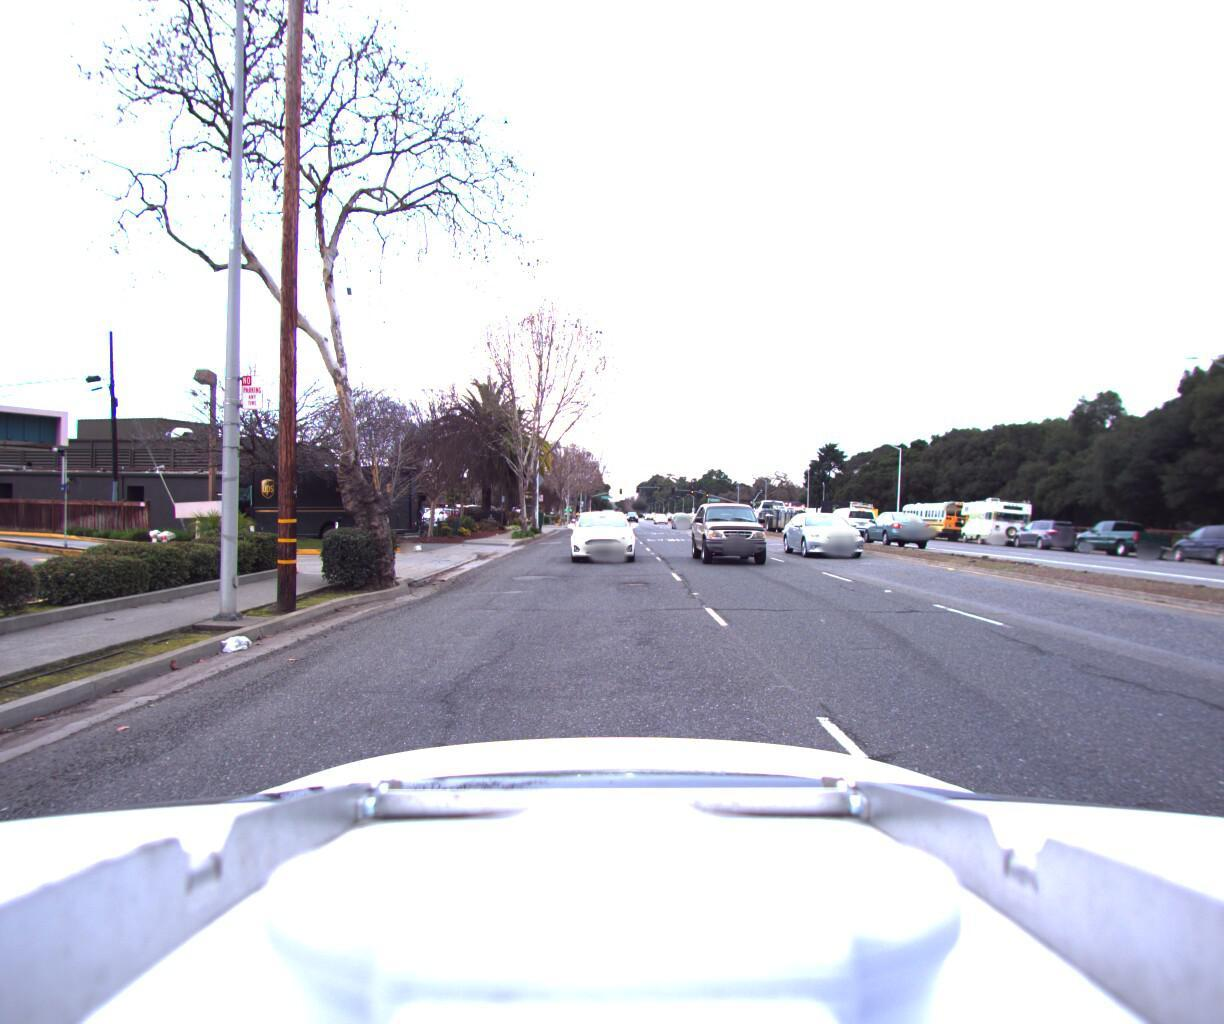bus: (890, 494, 983, 541)
car: (693, 496, 783, 568), (788, 508, 888, 559), (1065, 515, 1178, 556), (567, 502, 639, 561), (1155, 518, 1224, 567), (1004, 513, 1085, 549), (860, 509, 937, 546), (819, 500, 880, 536), (670, 509, 697, 526)
other_vehicle: (953, 492, 1036, 542)
truck: (203, 461, 423, 544), (800, 491, 870, 530), (746, 493, 811, 530)
